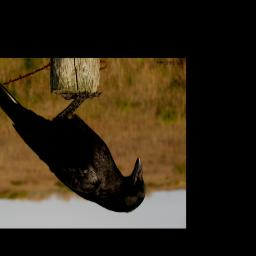Crow: (0, 75, 146, 213)
